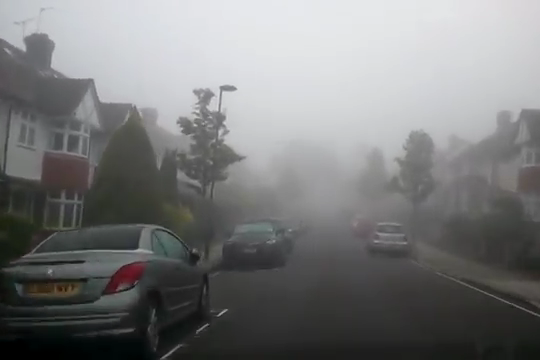car: (3, 221, 212, 358), (221, 218, 287, 271), (367, 219, 411, 258), (261, 216, 296, 250), (348, 211, 377, 236)
